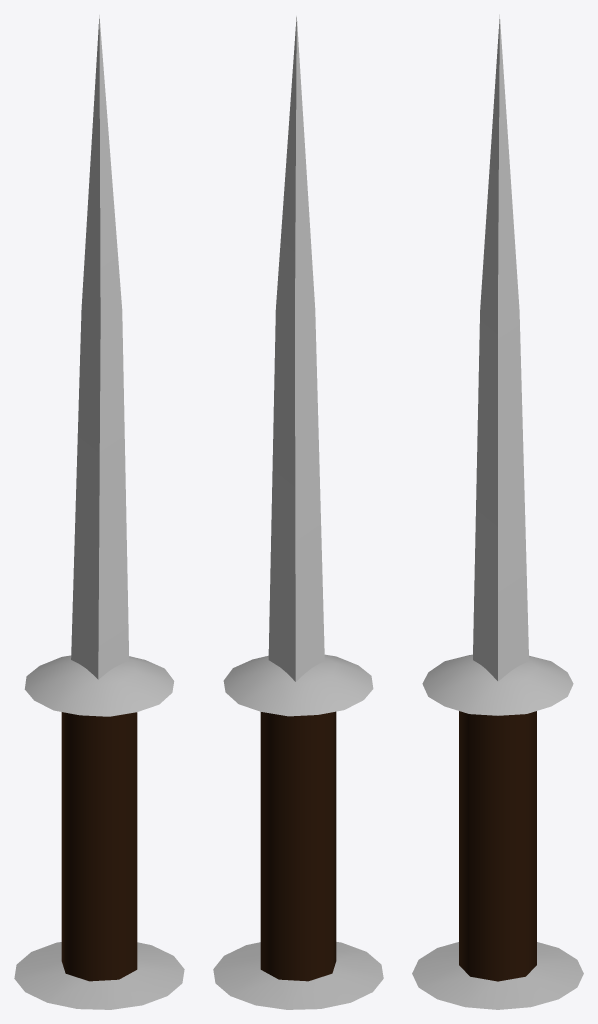
Rendered from Dagger.fbx.
The picture shows the model from 3 angles, left to right: view 1: azimuth 30°, elevation 25°; view 2: azimuth 150°, elevation 25°; view 3: azimuth 270°, elevation 25°; orthographic projection.
Visible parts, largest first — view 1: Cube.006; view 2: Cube.006; view 3: Cube.006.
Boxes of the visible parts, x1,y1,x2,y2 form: Cube.006: (14, 15, 184, 1009); Cube.006: (213, 16, 383, 1009); Cube.006: (412, 14, 583, 1009).
Size of the model in its own units: 7.25 by 45.06 by 7.25.
